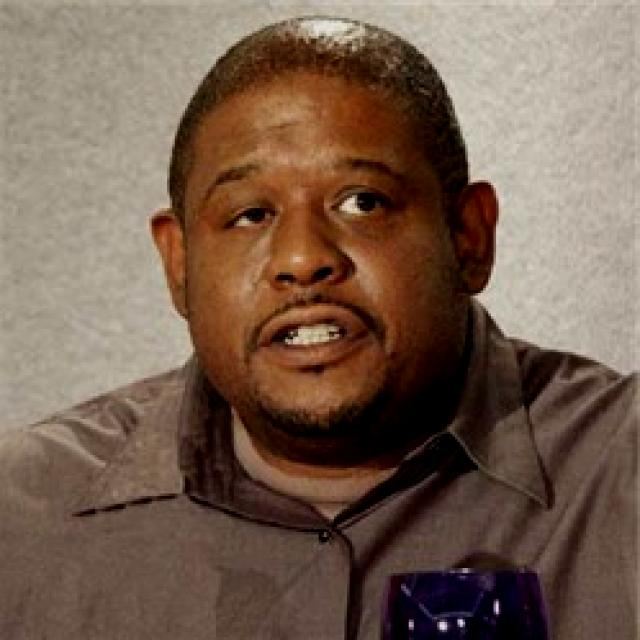stroke_face: (150, 15, 490, 457)
